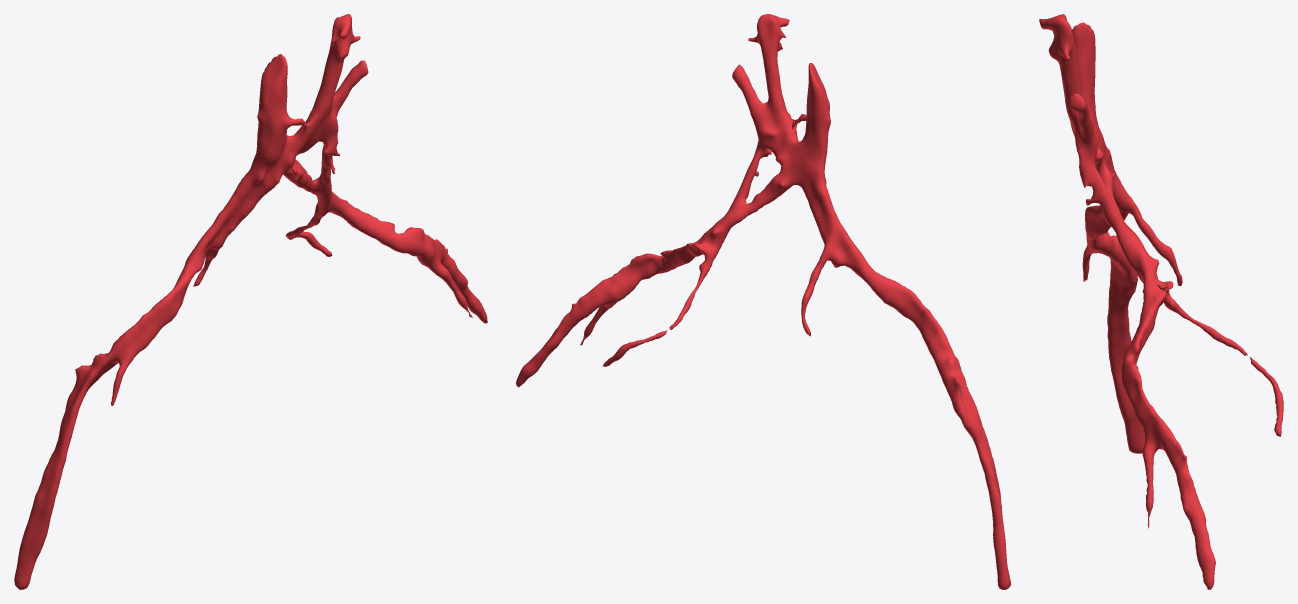
File: Pat2_Mav_Vessels.fbx
The picture shows the model from 3 angles, left to right: view 1: azimuth 30°, elevation 25°; view 2: azimuth 150°, elevation 25°; view 3: azimuth 270°, elevation 25°; orthographic projection. The views are drawn at different scales.
Visible parts, largest first — view 1: sm_Vessels; view 2: sm_Vessels; view 3: sm_Vessels.
Boxes of the visible parts, x1,y1,x2,y2 form: sm_Vessels: (14, 14, 487, 589); sm_Vessels: (516, 14, 1010, 589); sm_Vessels: (1039, 14, 1283, 589).
Size of the model in its own units: 153 by 153 by 56.69.
